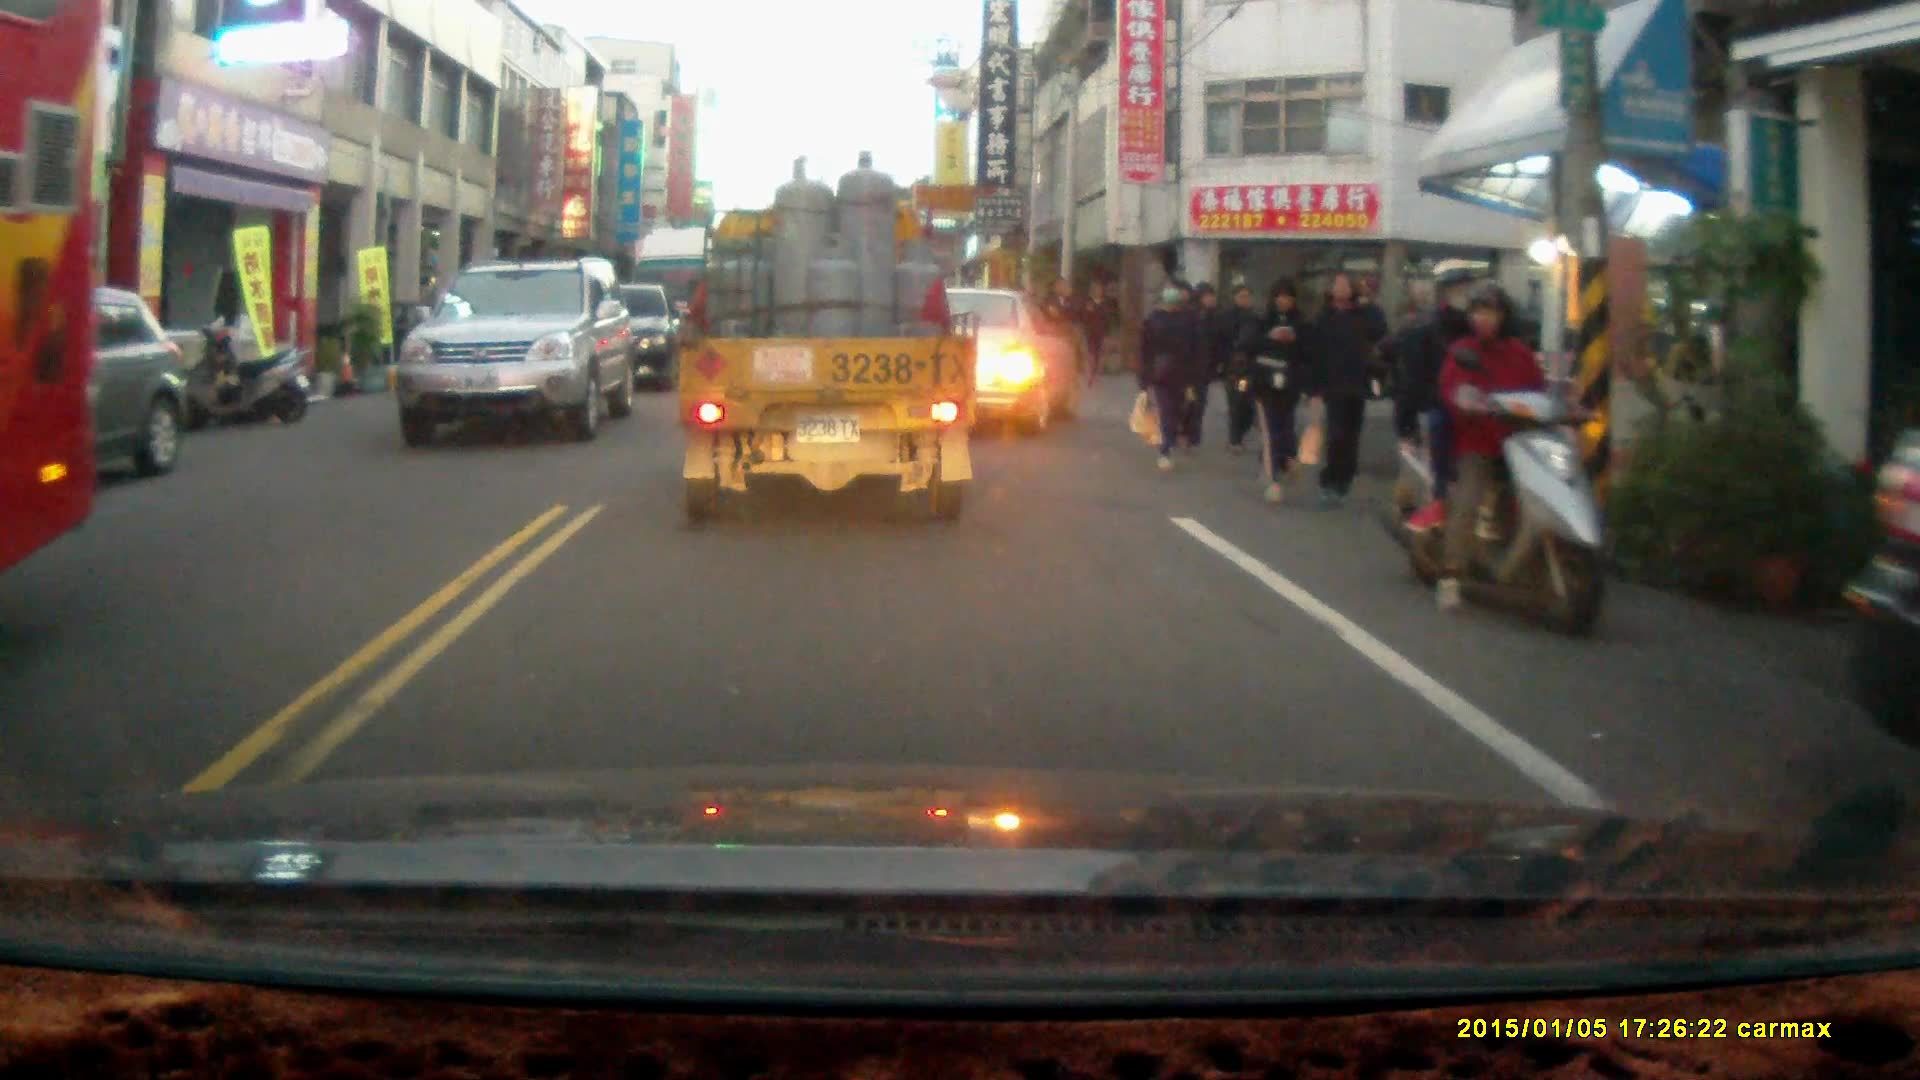pedestrian: (1300, 271, 1388, 505), (1238, 273, 1311, 503), (1135, 273, 1201, 467), (1210, 281, 1273, 449), (1175, 284, 1225, 451), (1043, 277, 1083, 386), (1077, 278, 1114, 388)
rider: (1373, 255, 1609, 632)
vehicle: (674, 147, 978, 525), (1, 7, 106, 575), (399, 260, 641, 449), (0, 278, 187, 482), (866, 286, 1090, 441)
